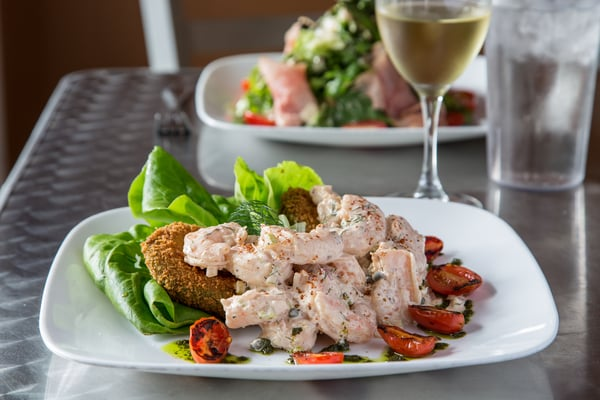sushi: (194, 32, 588, 200)
